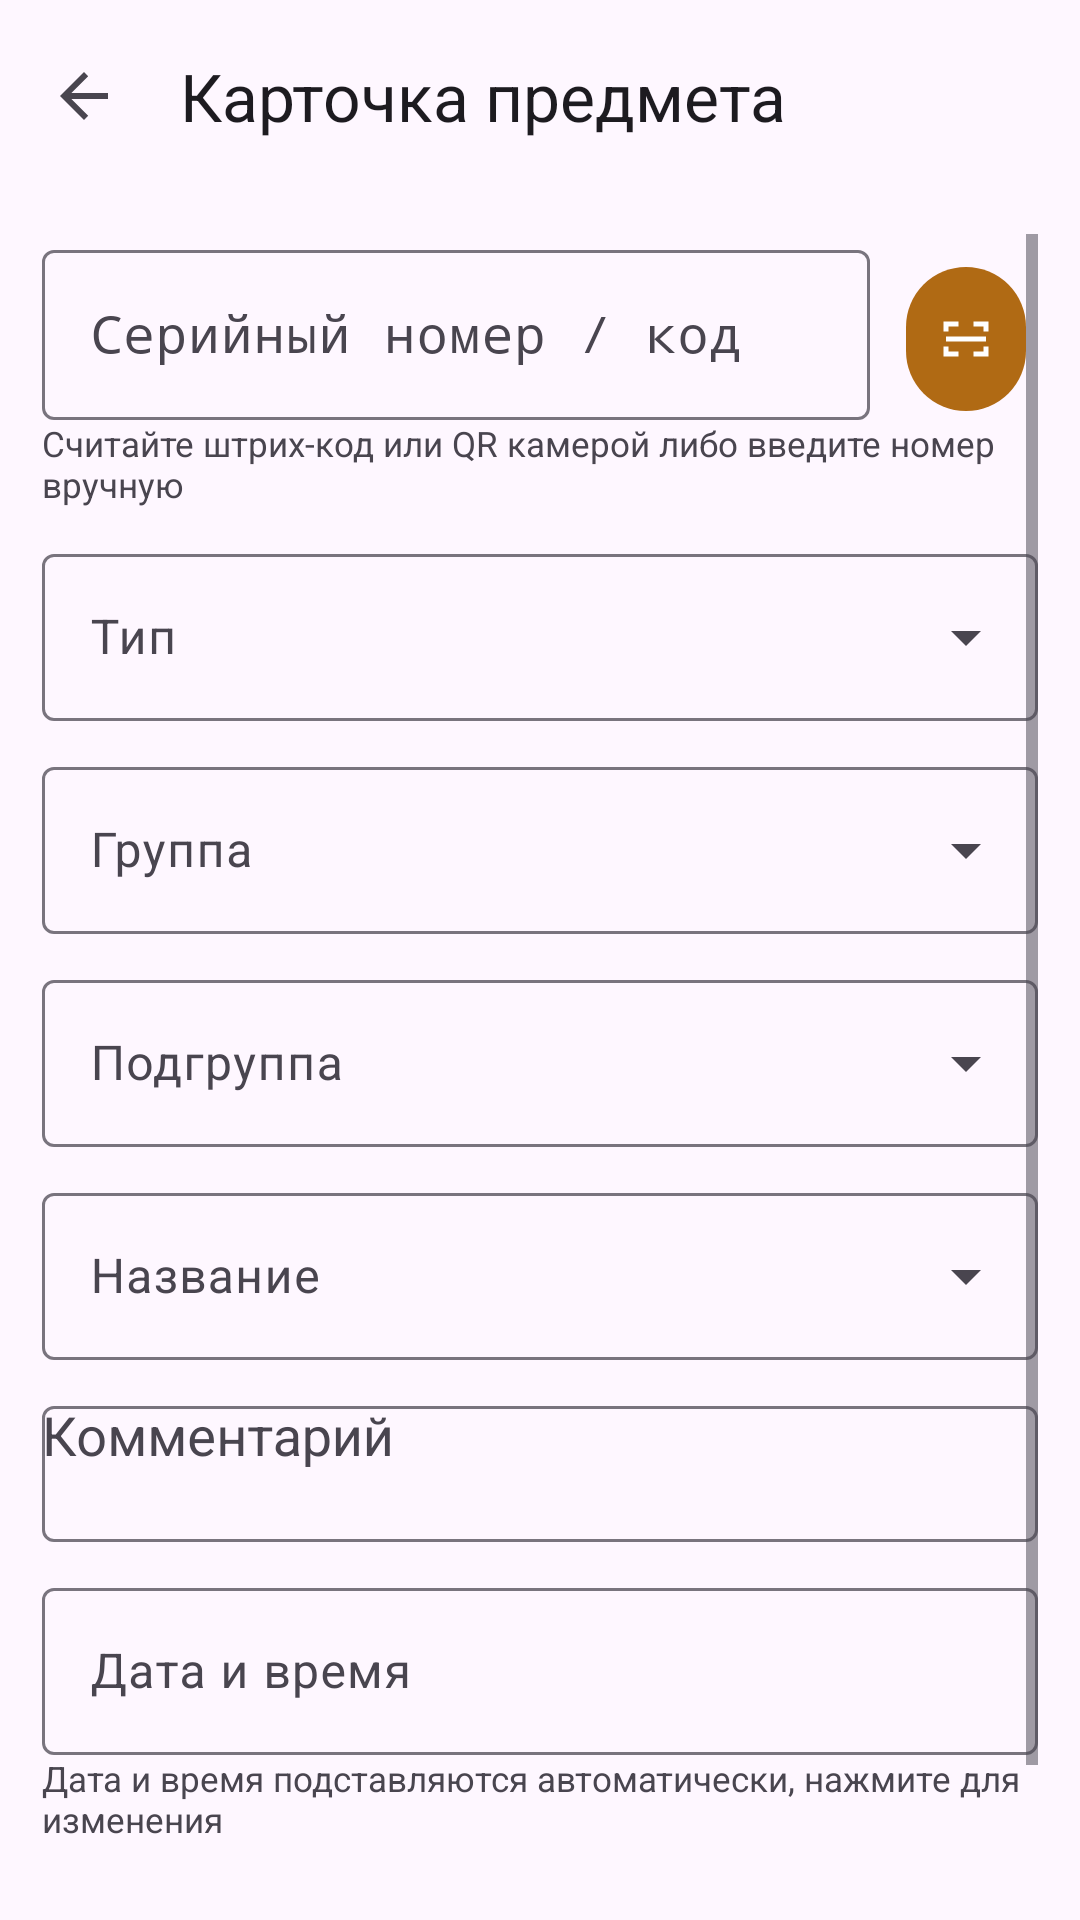

Named icons in this screenshot (1080w x 1920h) and their bounding boxes, box(x1, y1, x2, y2):
Сканировать: box(906, 255, 1038, 420)
